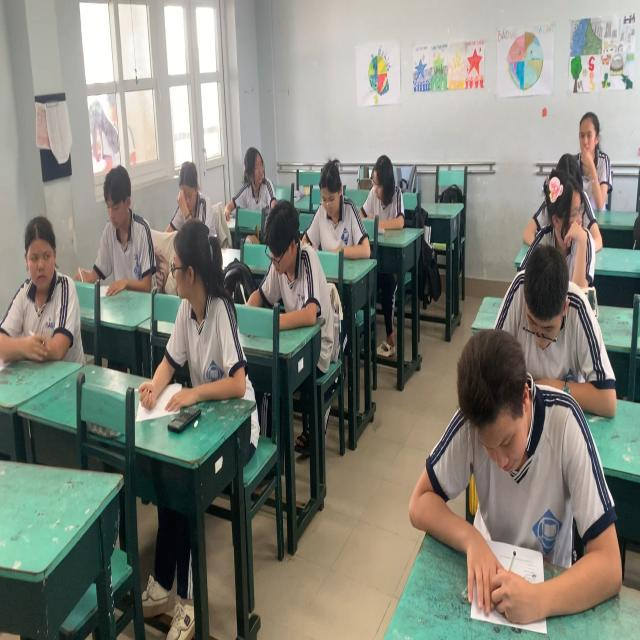cheating: (156, 209, 236, 400), (6, 216, 78, 362), (536, 158, 586, 262), (230, 128, 274, 200)
not_cheating: (409, 320, 563, 617), (96, 144, 164, 290), (242, 193, 310, 303), (512, 252, 578, 348), (354, 151, 410, 234), (310, 155, 354, 251), (177, 142, 211, 214), (568, 113, 602, 165)
